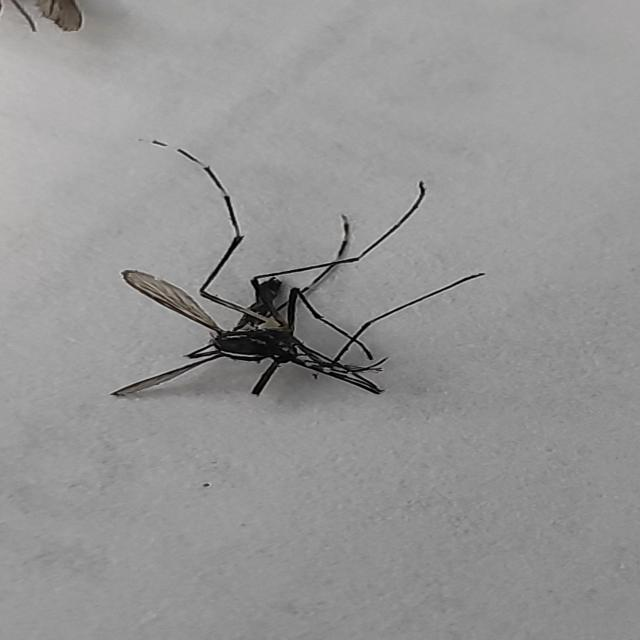albopictus: (72, 122, 474, 410)
